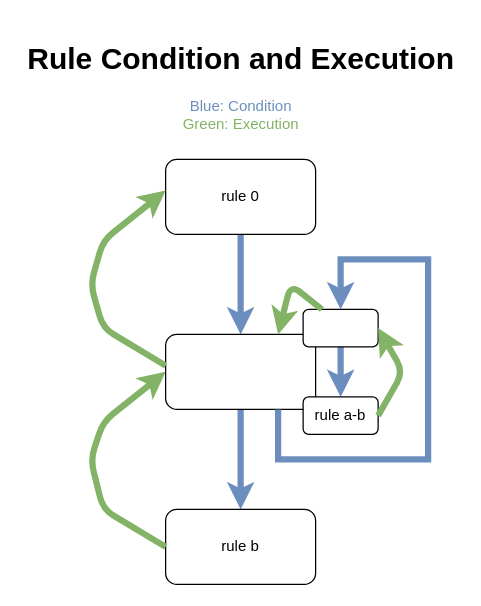
The diagram is 481 pixels wide and 606 high, and some of its shapes have lost their labels. Each missing label, with the box of its shape:
rule a: (164, 333, 316, 409)
rule a-a: (302, 308, 378, 347)
